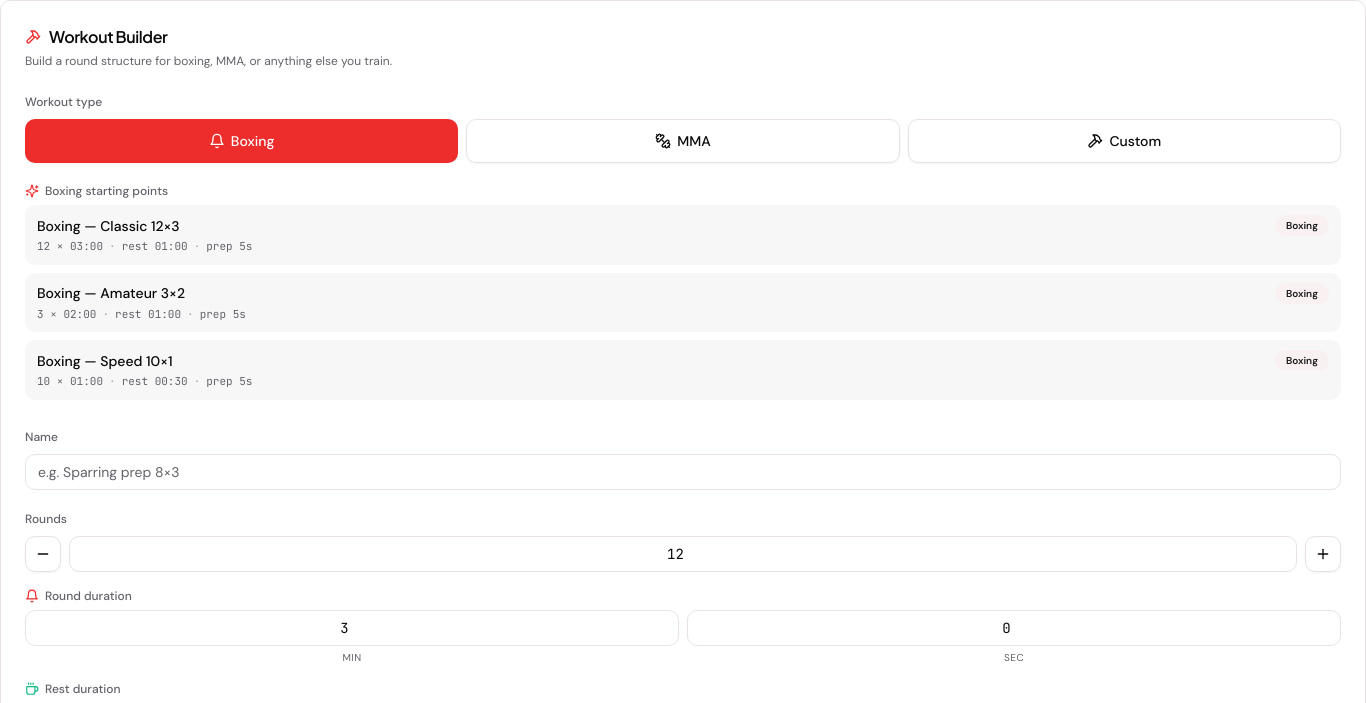
Test: WorkoutBuilder › offers BOXING, MMA and CUSTOM and lists the selected type’s defaults
Expected: the text "Boxing — Classic 12×3" is shown, [37,216,180,236]
Expected: the text "MMA — Championship 5×5" is not shown
Click the radio button labelled "MMA": (683, 141) [466,119,900,163]
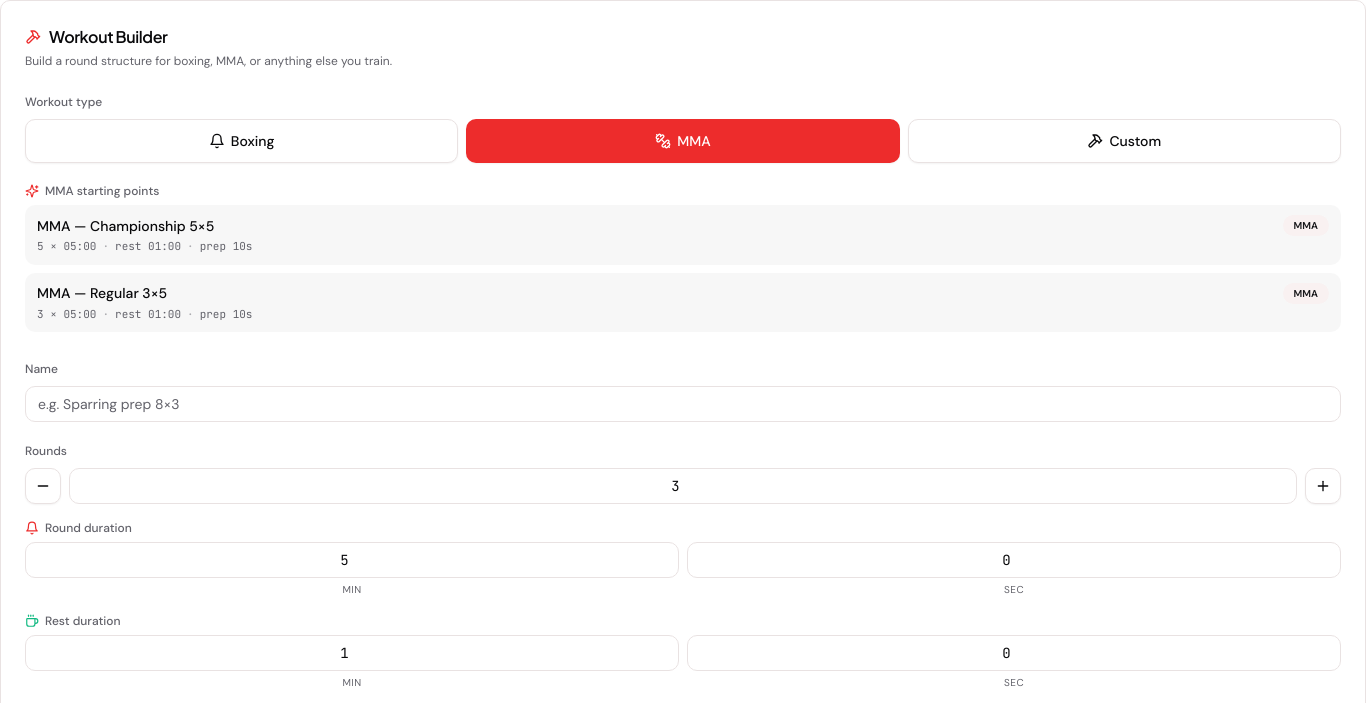
Result: the text "MMA — Championship 5×5" is shown at [37,216,214,236]
Result: the text "MMA — Regular 3×5" is shown at [37,283,167,303]
Result: the button "Boxing — Classic 12×3" is gone
